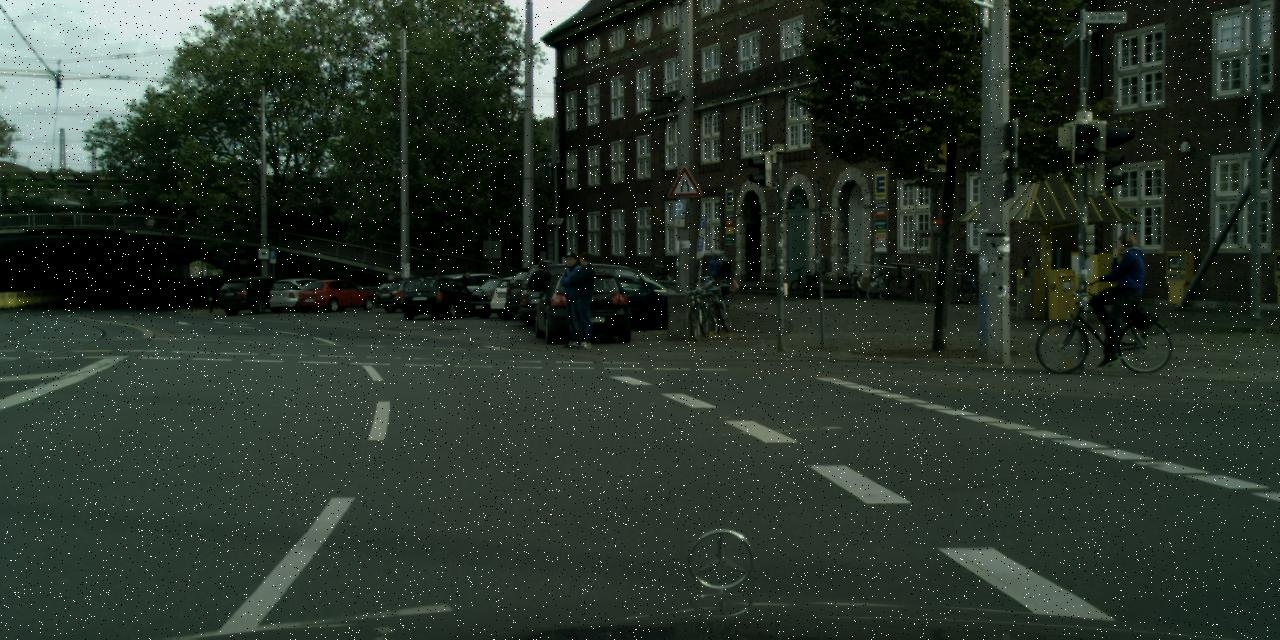ped: (1095, 232, 1144, 352), (565, 252, 604, 349), (552, 252, 592, 346), (527, 261, 555, 330), (712, 250, 732, 298), (704, 252, 724, 300), (457, 272, 472, 312)
